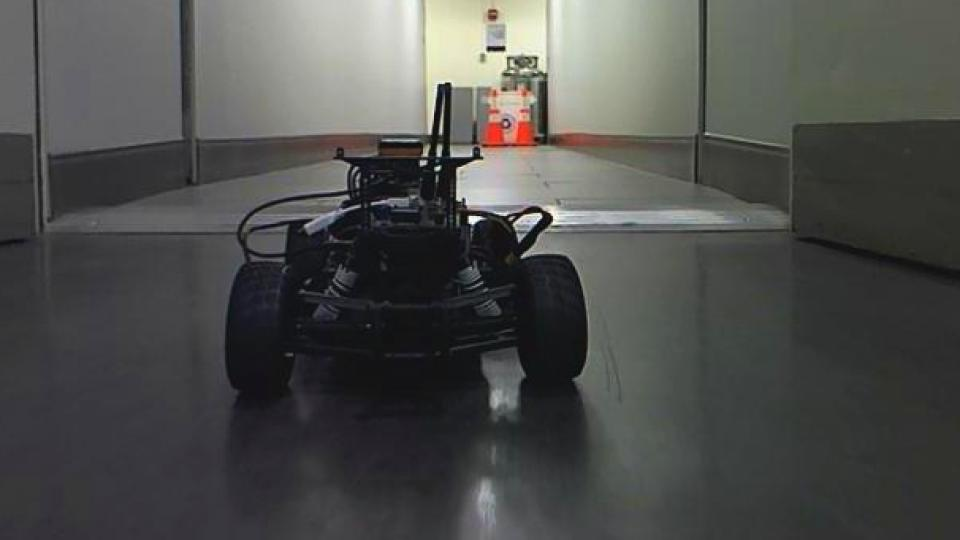car: (220, 81, 591, 399)
